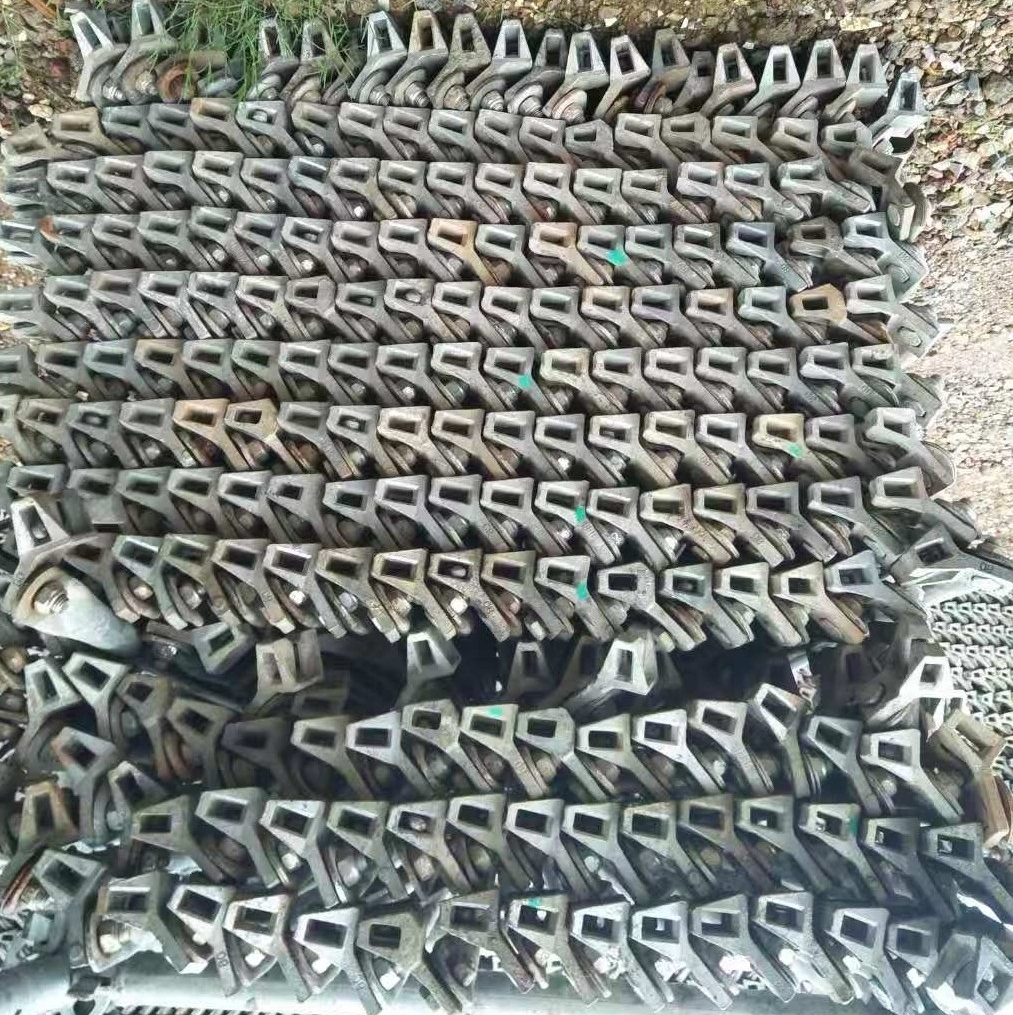sigma_steel: (33, 850, 105, 903), (22, 782, 80, 847), (64, 8, 128, 65), (52, 727, 115, 784), (128, 791, 188, 848), (216, 719, 290, 765), (438, 888, 497, 944), (341, 707, 401, 762), (102, 872, 163, 926), (104, 760, 167, 812), (224, 894, 286, 946), (356, 914, 423, 962), (830, 903, 891, 955), (198, 785, 264, 833), (170, 883, 233, 933), (752, 682, 808, 737), (293, 907, 357, 955), (901, 522, 958, 575), (573, 714, 632, 764), (397, 696, 458, 744), (260, 798, 325, 843), (325, 796, 387, 842), (504, 796, 564, 843), (165, 700, 229, 744), (63, 653, 124, 699), (560, 800, 621, 846), (128, 1, 179, 56), (678, 793, 733, 844), (516, 707, 573, 756), (444, 9, 492, 67), (864, 728, 922, 776), (620, 800, 678, 848), (24, 662, 75, 714), (290, 714, 350, 758), (400, 629, 452, 679), (884, 915, 939, 962), (208, 535, 268, 578), (633, 709, 689, 755), (610, 636, 654, 694), (692, 695, 746, 742), (6, 459, 67, 500), (262, 468, 326, 507), (252, 643, 300, 695), (806, 716, 859, 763), (451, 793, 505, 839), (322, 474, 377, 519), (533, 553, 592, 594), (749, 409, 805, 452), (372, 546, 428, 589), (314, 544, 374, 584), (197, 624, 249, 670), (112, 534, 165, 579), (160, 532, 213, 577), (509, 638, 553, 692), (372, 474, 428, 516), (114, 467, 174, 506), (431, 404, 488, 445), (263, 540, 320, 581), (3, 122, 56, 166), (256, 16, 298, 71), (462, 702, 518, 743), (833, 641, 874, 697), (215, 469, 272, 509), (567, 32, 610, 85), (651, 26, 694, 79), (139, 206, 193, 248), (78, 339, 132, 381), (717, 560, 771, 602), (875, 467, 929, 509), (273, 399, 331, 438), (363, 13, 407, 64), (644, 404, 696, 447), (694, 480, 746, 523), (408, 9, 450, 62), (533, 411, 586, 453), (642, 483, 695, 525), (749, 482, 803, 523), (540, 344, 590, 388), (167, 464, 222, 504), (698, 343, 749, 386), (832, 552, 883, 595), (30, 342, 86, 381), (694, 409, 746, 451), (599, 562, 655, 601), (484, 550, 537, 591), (494, 14, 532, 71), (627, 285, 684, 323), (375, 340, 429, 380), (533, 480, 587, 520), (747, 341, 796, 385), (168, 396, 226, 433), (716, 41, 755, 96), (681, 284, 736, 323), (846, 273, 897, 315), (809, 476, 861, 517), (63, 463, 119, 501), (300, 17, 340, 70), (119, 674, 172, 714), (791, 215, 840, 258), (577, 283, 631, 322), (15, 397, 69, 436), (120, 397, 174, 436), (430, 473, 484, 512), (609, 32, 651, 82), (611, 110, 662, 151), (130, 336, 181, 377), (135, 269, 190, 307), (234, 270, 289, 308), (791, 285, 844, 324), (44, 210, 92, 253), (485, 342, 533, 385), (673, 219, 722, 261), (809, 35, 847, 89), (473, 221, 527, 259), (228, 338, 282, 376), (484, 409, 538, 447), (647, 342, 697, 383), (586, 485, 636, 526), (232, 207, 283, 247), (799, 341, 850, 381), (480, 477, 535, 514), (528, 284, 580, 323), (777, 562, 824, 605), (763, 40, 801, 93), (483, 281, 532, 322), (181, 273, 240, 307), (517, 114, 567, 154), (806, 412, 856, 452), (870, 403, 920, 443), (94, 152, 148, 189), (41, 273, 93, 311), (63, 534, 115, 572), (727, 218, 775, 259), (594, 344, 642, 385), (472, 159, 525, 196), (89, 211, 142, 248), (379, 404, 432, 441), (578, 220, 627, 260), (472, 107, 522, 146), (329, 155, 379, 194), (189, 205, 239, 244), (224, 399, 274, 438), (536, 23, 570, 80), (380, 214, 427, 255), (655, 111, 710, 146), (425, 159, 477, 196), (240, 155, 292, 192), (531, 219, 579, 259), (146, 100, 195, 139), (739, 285, 788, 324), (378, 103, 431, 139), (433, 339, 483, 377), (721, 159, 772, 196), (571, 164, 622, 201), (180, 337, 231, 374), (843, 210, 889, 251), (674, 158, 721, 198), (430, 215, 478, 254), (90, 269, 145, 303), (145, 148, 194, 186), (853, 344, 902, 382), (288, 100, 341, 135), (853, 44, 890, 94), (335, 101, 385, 138), (47, 157, 97, 194), (627, 221, 674, 260), (328, 337, 375, 376), (771, 114, 819, 152), (434, 279, 482, 317), (375, 158, 427, 193), (429, 107, 478, 144), (52, 106, 102, 142), (277, 337, 327, 373), (333, 219, 380, 257), (918, 652, 956, 699), (850, 150, 907, 181), (562, 118, 611, 154), (524, 161, 573, 197), (620, 164, 670, 199), (193, 150, 241, 186), (288, 154, 331, 194), (712, 112, 757, 150), (190, 96, 237, 132), (895, 75, 928, 126), (570, 635, 603, 686), (820, 118, 871, 150), (104, 102, 150, 137), (288, 275, 334, 310), (781, 158, 828, 192), (2, 287, 42, 326), (1, 345, 31, 392), (689, 47, 716, 93)
sigma_steel_blocked: (6, 493, 69, 556), (570, 899, 632, 953), (687, 895, 750, 947), (511, 890, 568, 945), (631, 899, 688, 953), (754, 887, 811, 941), (927, 822, 984, 874), (862, 812, 922, 859), (800, 798, 860, 842), (738, 794, 795, 839), (427, 545, 484, 588), (657, 561, 714, 603), (390, 799, 447, 841), (63, 400, 118, 442), (326, 404, 383, 443), (336, 275, 386, 317), (590, 410, 643, 448), (282, 215, 331, 254), (231, 100, 288, 133), (387, 272, 432, 313), (1, 215, 42, 258), (1, 167, 44, 204)
